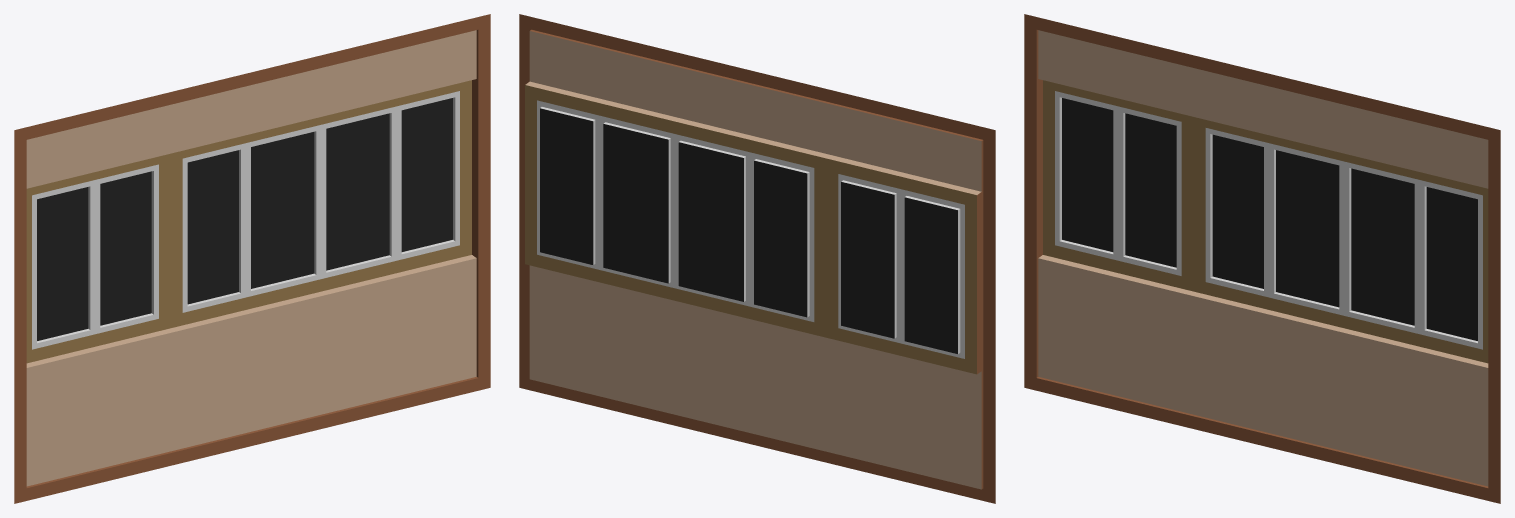
Rendered from 4x3WindowB.fbx.
3 renders of one model, left to right at view 1: azimuth 30°, elevation 25°; view 2: azimuth 150°, elevation 25°; view 3: azimuth 330°, elevation 25°, orthographic.
Parts seen in each view (by area): view 1: 4x3WindowB; view 2: 4x3WindowB; view 3: 4x3WindowB.
Boxes of the visible parts, bbox=[...] form: 4x3WindowB: bbox=[14, 14, 490, 503]; 4x3WindowB: bbox=[519, 14, 995, 503]; 4x3WindowB: bbox=[1024, 14, 1500, 503].
Bounding box in the file's own units: 400 × 300 × 12.4.
